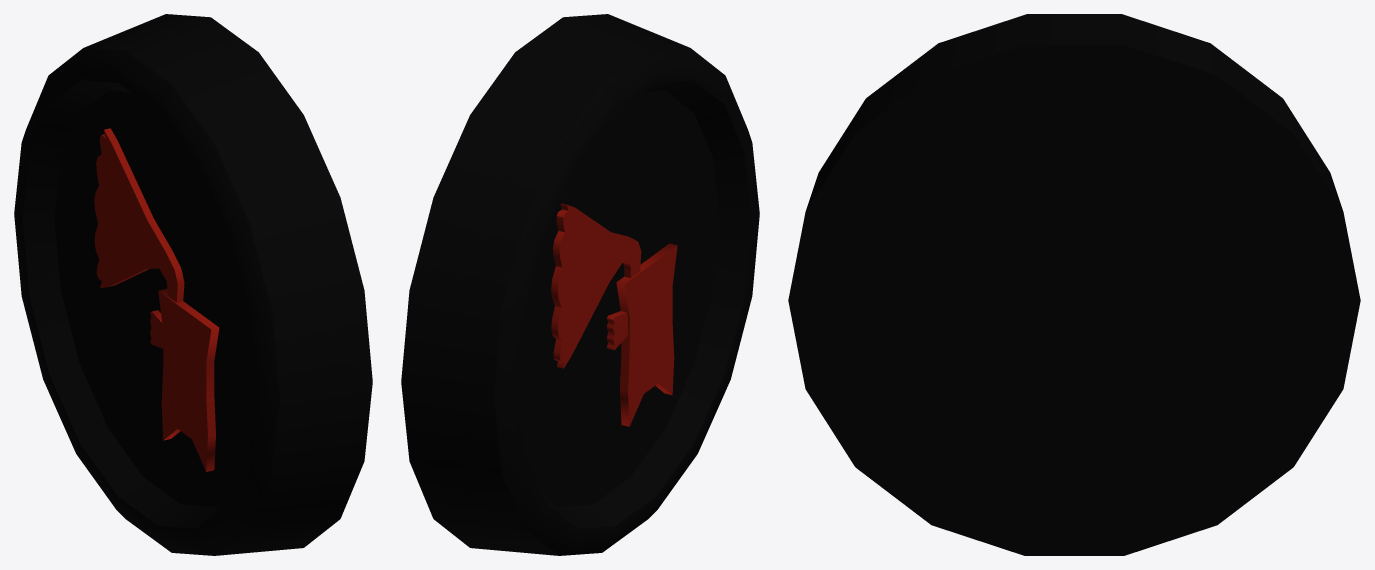
File: SM_Feedback_low.fbx
The picture shows the model from 3 angles, left to right: view 1: azimuth 30°, elevation 25°; view 2: azimuth 150°, elevation 25°; view 3: azimuth 270°, elevation 25°; orthographic projection. The views are drawn at different scales.
Visible parts, largest first — view 1: SM_Feedback_low; view 2: SM_Feedback_low; view 3: SM_Feedback_low.
Boxes of the visible parts, <box> form: SM_Feedback_low: <box>14,14,372,555</box>; SM_Feedback_low: <box>401,14,759,555</box>; SM_Feedback_low: <box>788,14,1360,555</box>.
Bounding box in the file's own units: 15 × 72.94 × 74.06.
